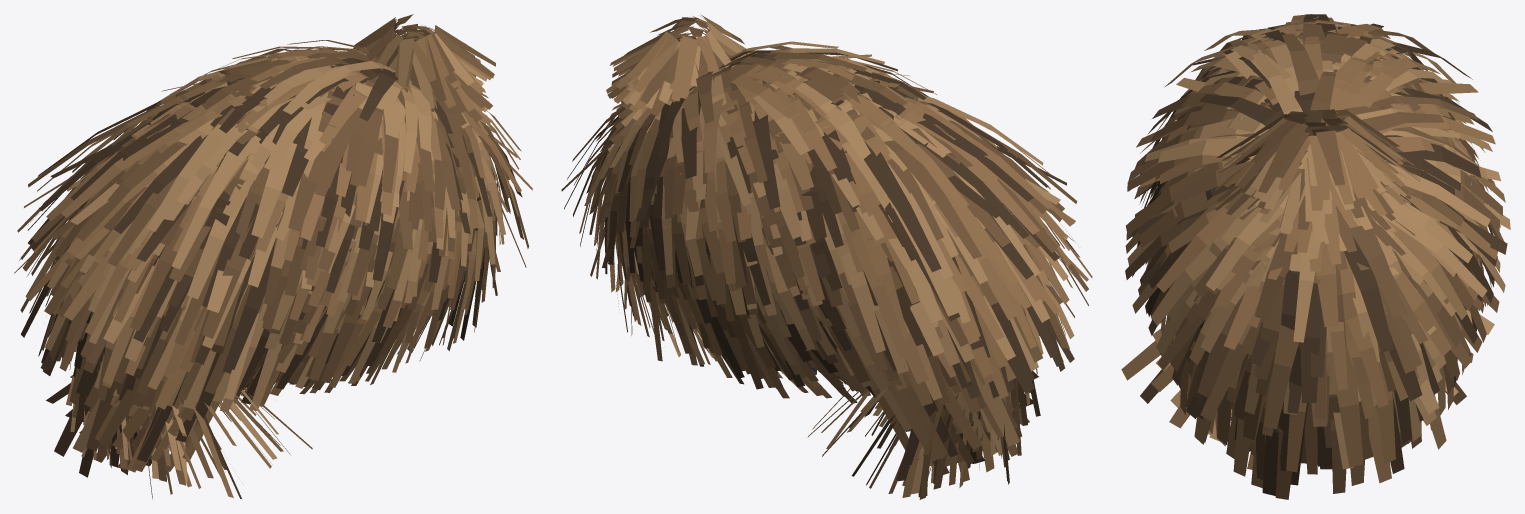
Rendered from emu.glb.
3 views of the same model, side by side, from view 1: azimuth 30°, elevation 25°; view 2: azimuth 150°, elevation 25°; view 3: azimuth 270°, elevation 25° (orthographic). The views are drawn at different scales.
Parts seen in each view (by area): view 1: KEEP EmuBodyHi, KEEP EmuBodyLo; view 2: KEEP EmuBodyHi, KEEP EmuBodyLo; view 3: KEEP EmuBodyHi, KEEP EmuBodyLo.
Part boxes in pixels (x1,y1,x2,y2): KEEP EmuBodyHi: [17, 17, 529, 488]; KEEP EmuBodyLo: [14, 14, 532, 499]; KEEP EmuBodyHi: [564, 14, 1092, 497]; KEEP EmuBodyLo: [561, 17, 1088, 499]; KEEP EmuBodyHi: [1125, 14, 1505, 499]; KEEP EmuBodyLo: [1121, 23, 1510, 483].
Size of the model in its own units: 1.49 by 1.16 by 0.8691.
